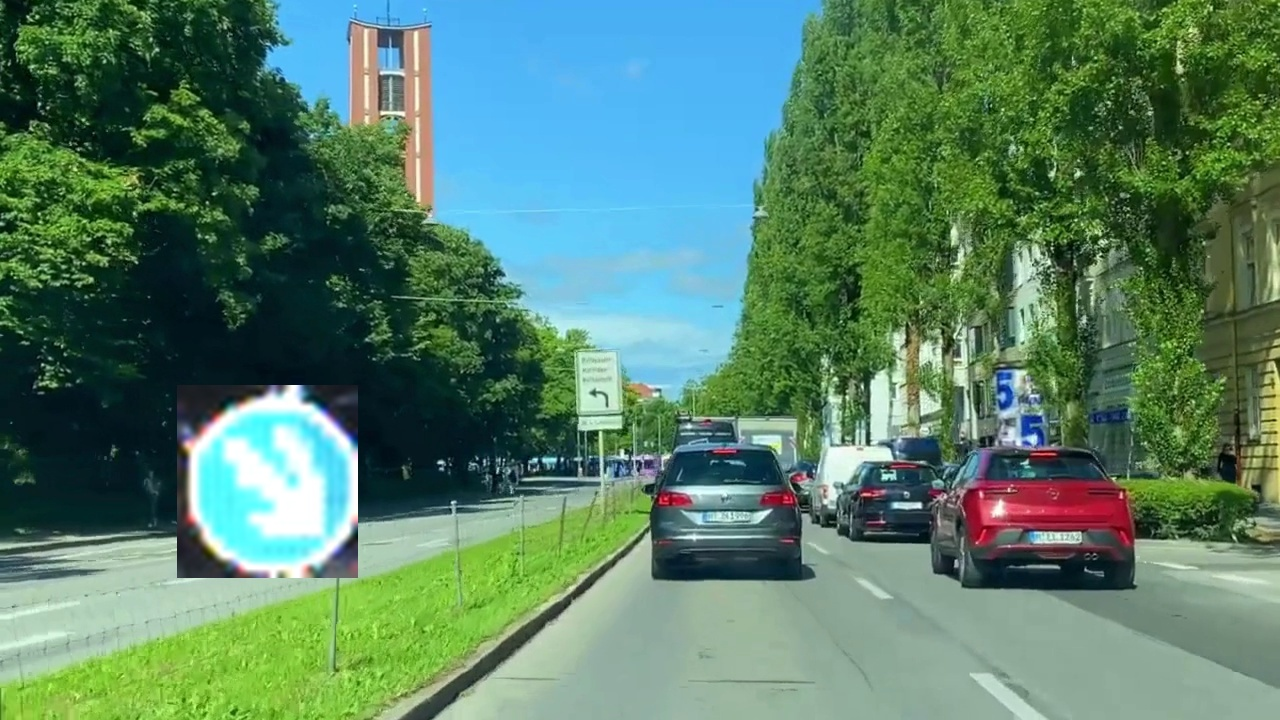Keep right: (177, 385, 358, 578)
